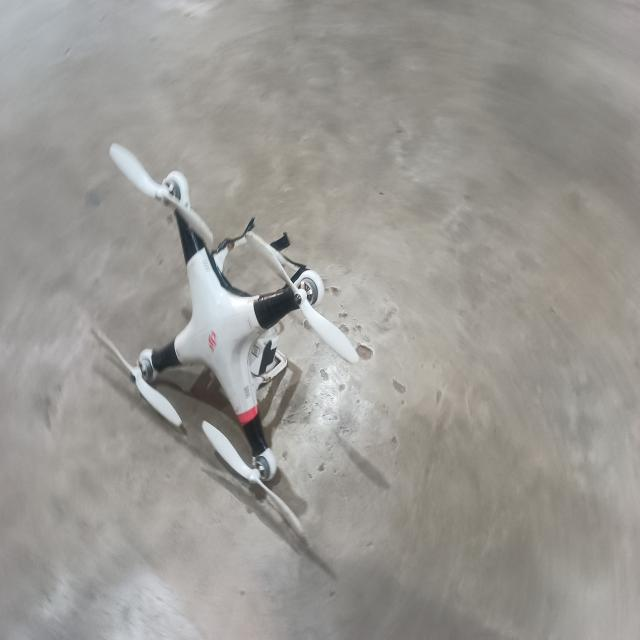drone: (79, 102, 372, 554)
